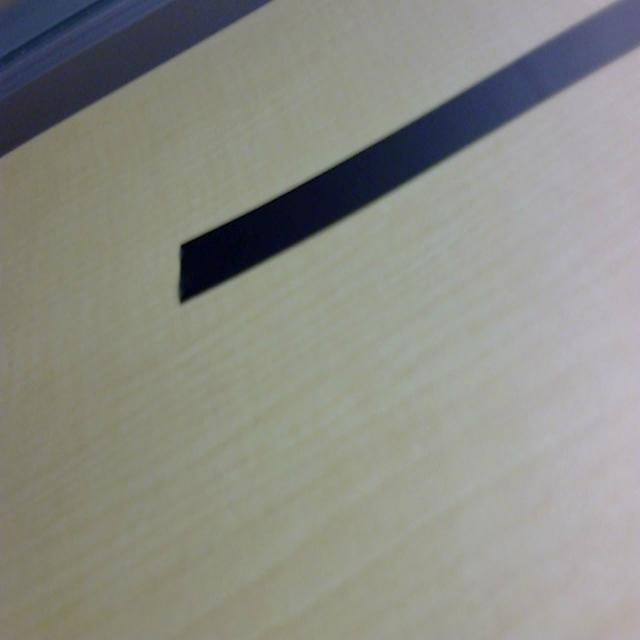tape: (155, 0, 640, 337)
